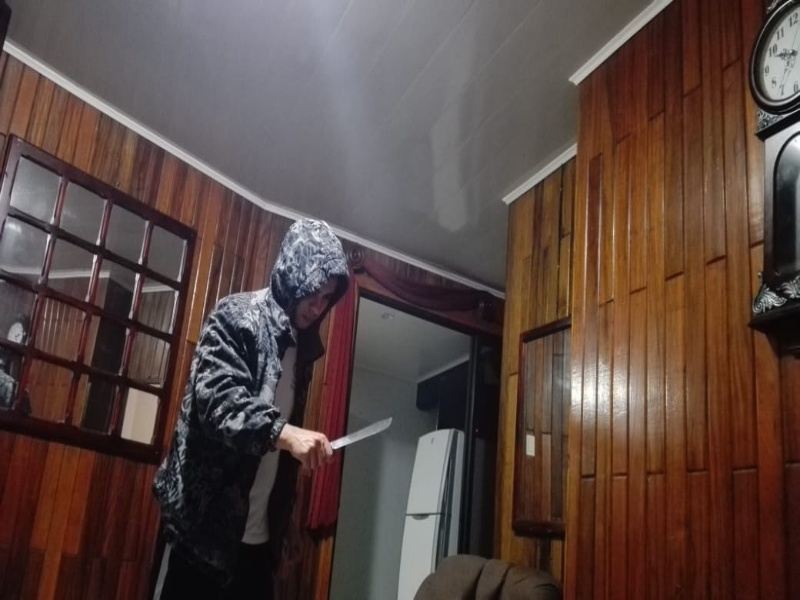bonnet: (270, 217, 350, 327)
hand: (287, 424, 331, 470)
knife: (328, 416, 394, 450)
person: (149, 217, 351, 600)
